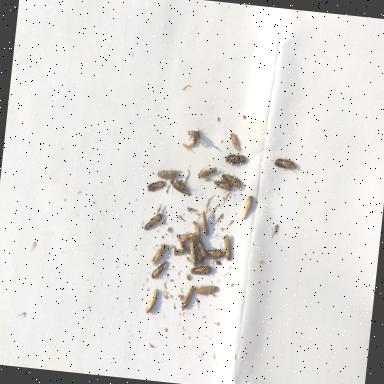pbw: (143, 210, 163, 236), (271, 155, 298, 174), (174, 228, 198, 248), (194, 236, 212, 262), (178, 286, 196, 312), (219, 232, 235, 261), (198, 208, 214, 236), (196, 162, 218, 182), (142, 288, 158, 315), (186, 124, 202, 150), (222, 152, 248, 168), (227, 134, 245, 156), (156, 166, 180, 182), (187, 239, 200, 268), (150, 242, 167, 264), (222, 173, 244, 190), (170, 177, 189, 196), (190, 262, 214, 277), (204, 245, 228, 260), (150, 260, 168, 280), (145, 178, 166, 195), (240, 196, 254, 219), (197, 282, 218, 297), (213, 179, 232, 191)
